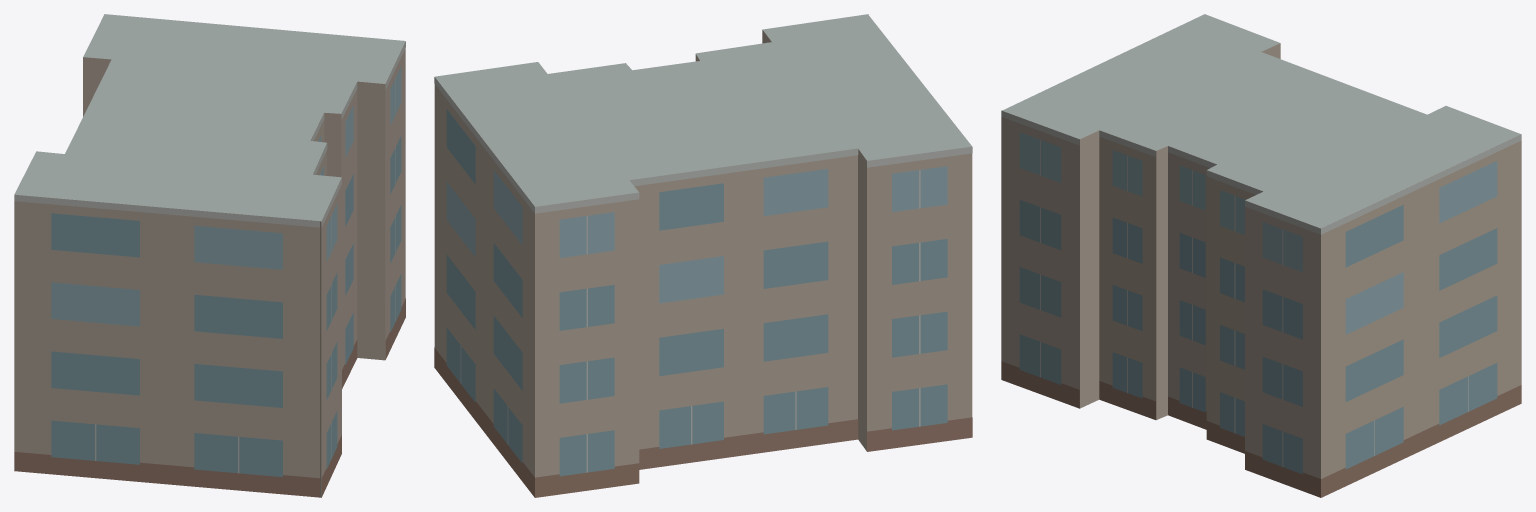
Rendered from survey-upis-32998323.glb.
The picture shows the model from 3 angles, left to right: view 1: azimuth 30°, elevation 25°; view 2: azimuth 150°, elevation 25°; view 3: azimuth 270°, elevation 25°; orthographic projection. The views are drawn at different scales.
Visible parts, largest first — view 1: survey-upis-32998323.tmp; view 2: survey-upis-32998323.tmp; view 3: survey-upis-32998323.tmp.
Boxes of the visible parts, <box> form: survey-upis-32998323.tmp: <box>14,14,405,497</box>; survey-upis-32998323.tmp: <box>434,14,972,497</box>; survey-upis-32998323.tmp: <box>1001,14,1521,497</box>.
Size of the model in its own units: 17.95 by 10.5 by 18.39.
